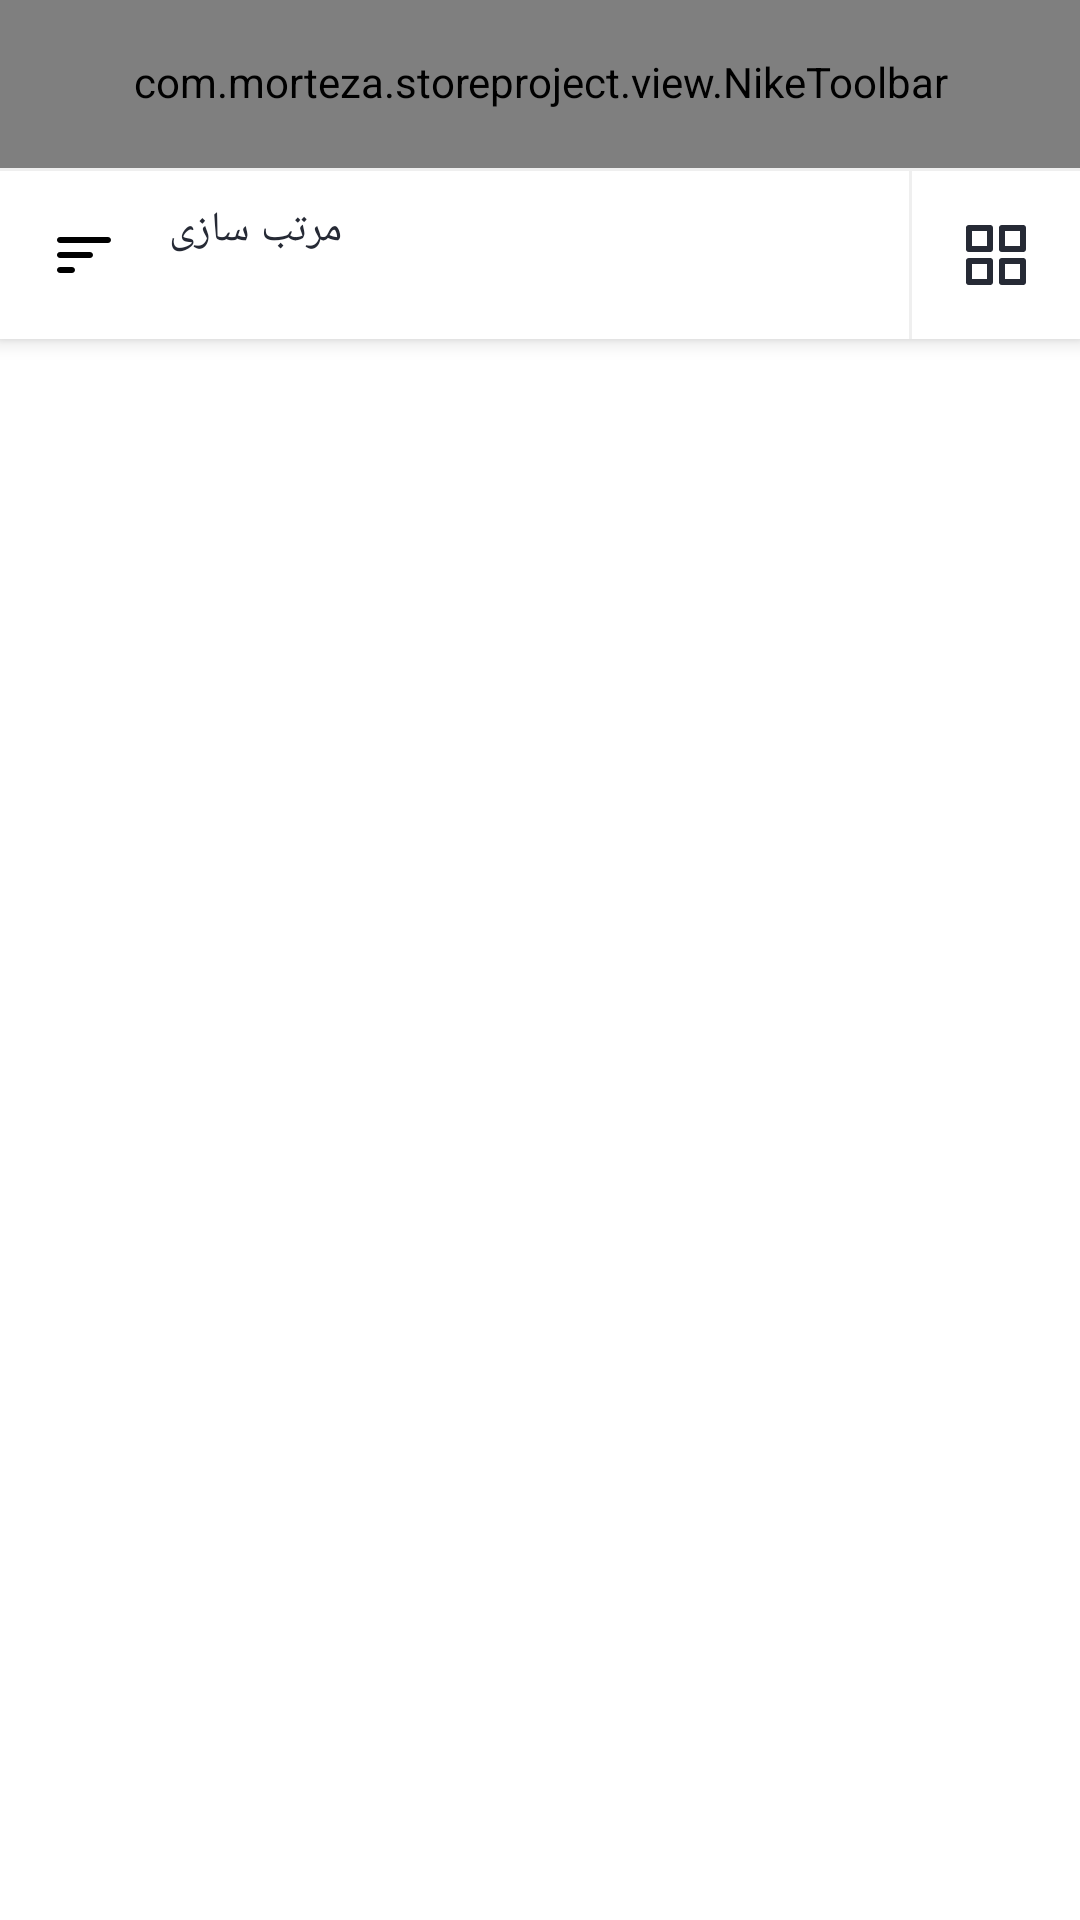

Screen size 1080px x 1920px. Icon name, then its center in pixels as point (x, y):
grid: point (996, 255)
sort: point (84, 255)
